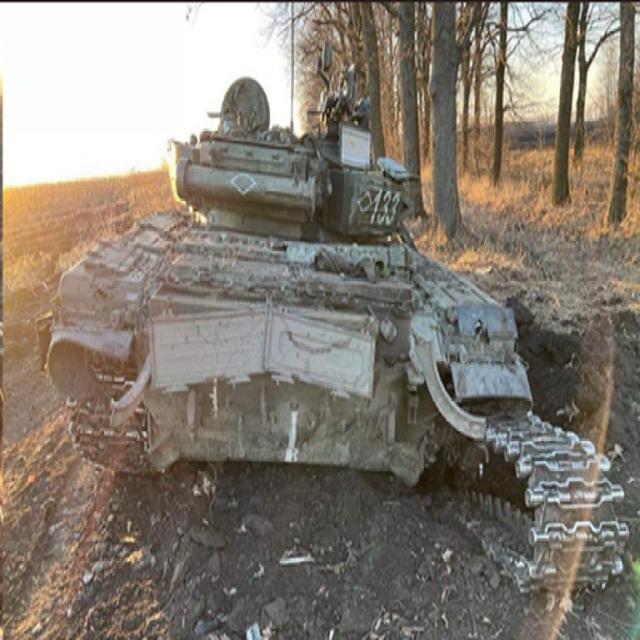TANK: (36, 71, 539, 529)
